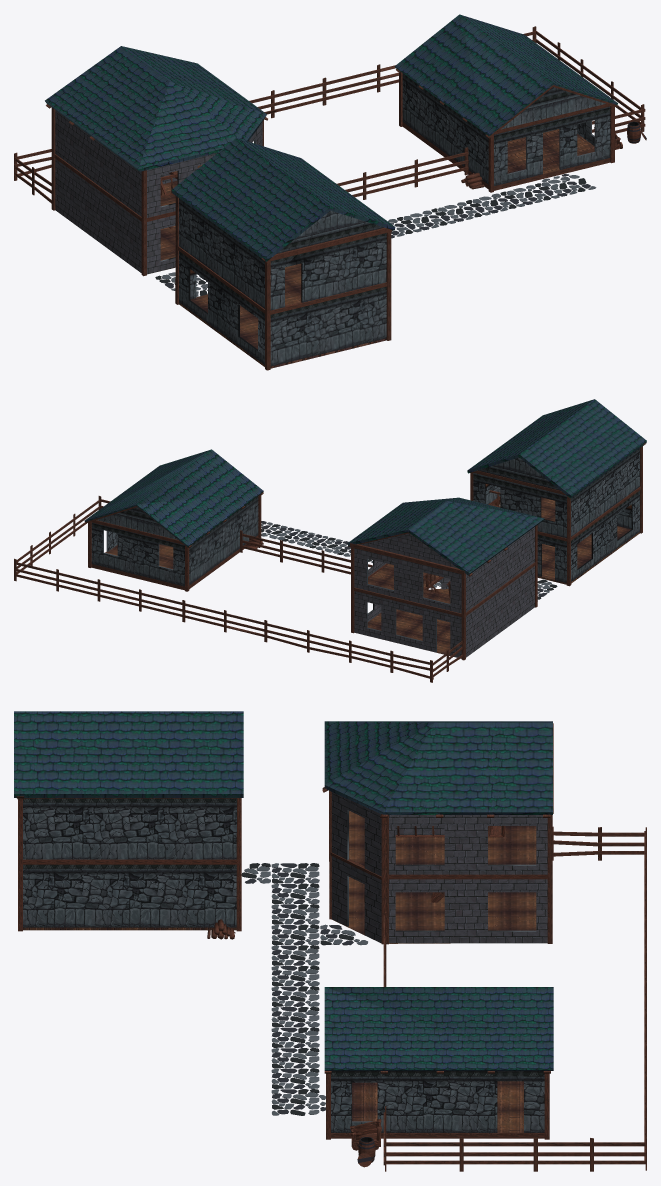
Rendered from Village.glb.
3 views of the same model, one above another, from view 1: azimuth 30°, elevation 25°; view 2: azimuth 150°, elevation 25°; view 3: azimuth 270°, elevation 25° (orthographic). The views are drawn at different scales.
Parts seen in each view (by area): view 1: All; view 2: All; view 3: All.
Boxes of the visible parts, <box> form: All: <box>14,14,646,370</box>; All: <box>14,399,646,682</box>; All: <box>14,711,646,1171</box>.
Size of what is drawn, in the model's own units: 30.8 by 8.32 by 26.05.
6 materials, 6 textured.
